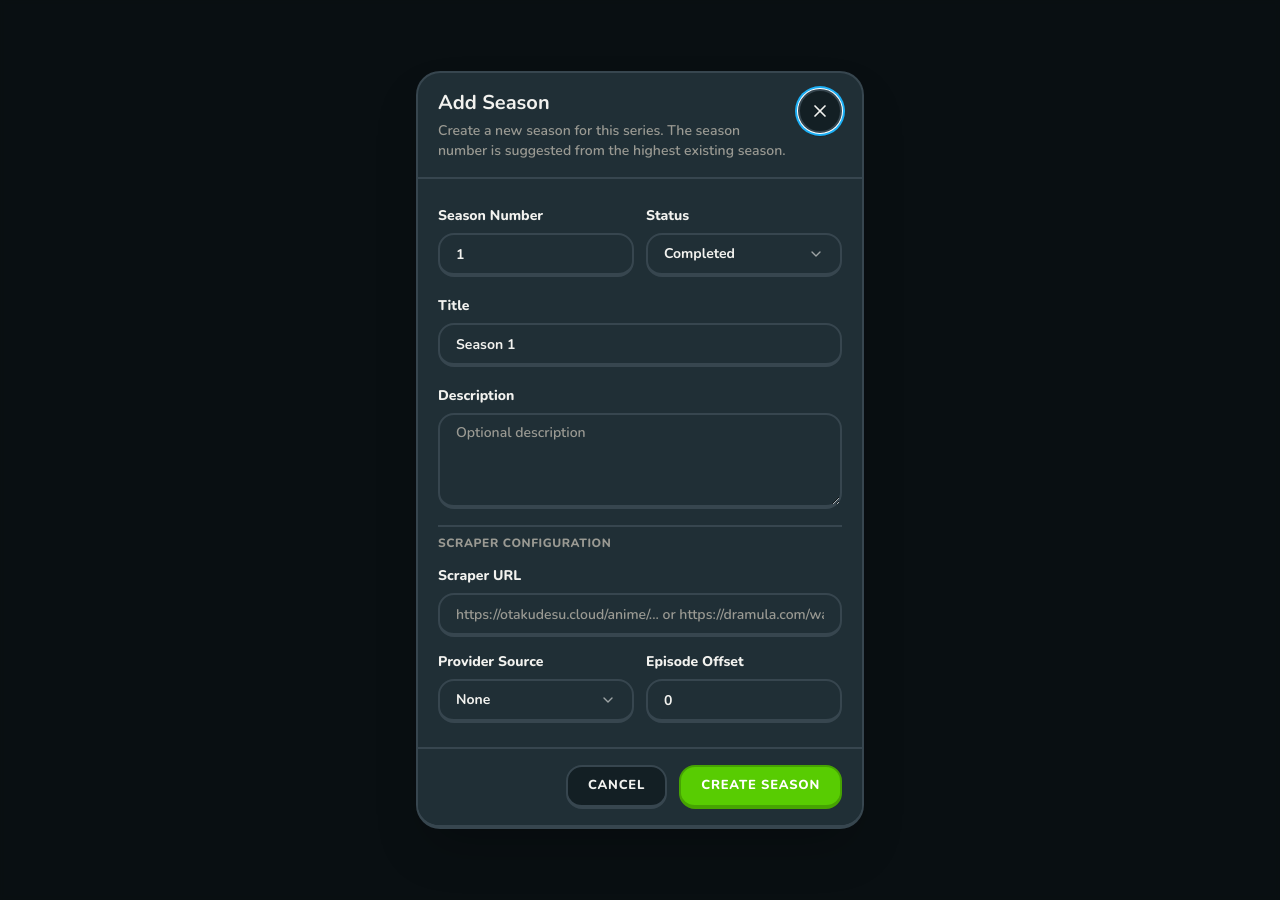
AddSeasonDialog Component › does not submit when title is empty
Clear the field labelled "Title" at (640, 345), box [438, 323, 842, 367]
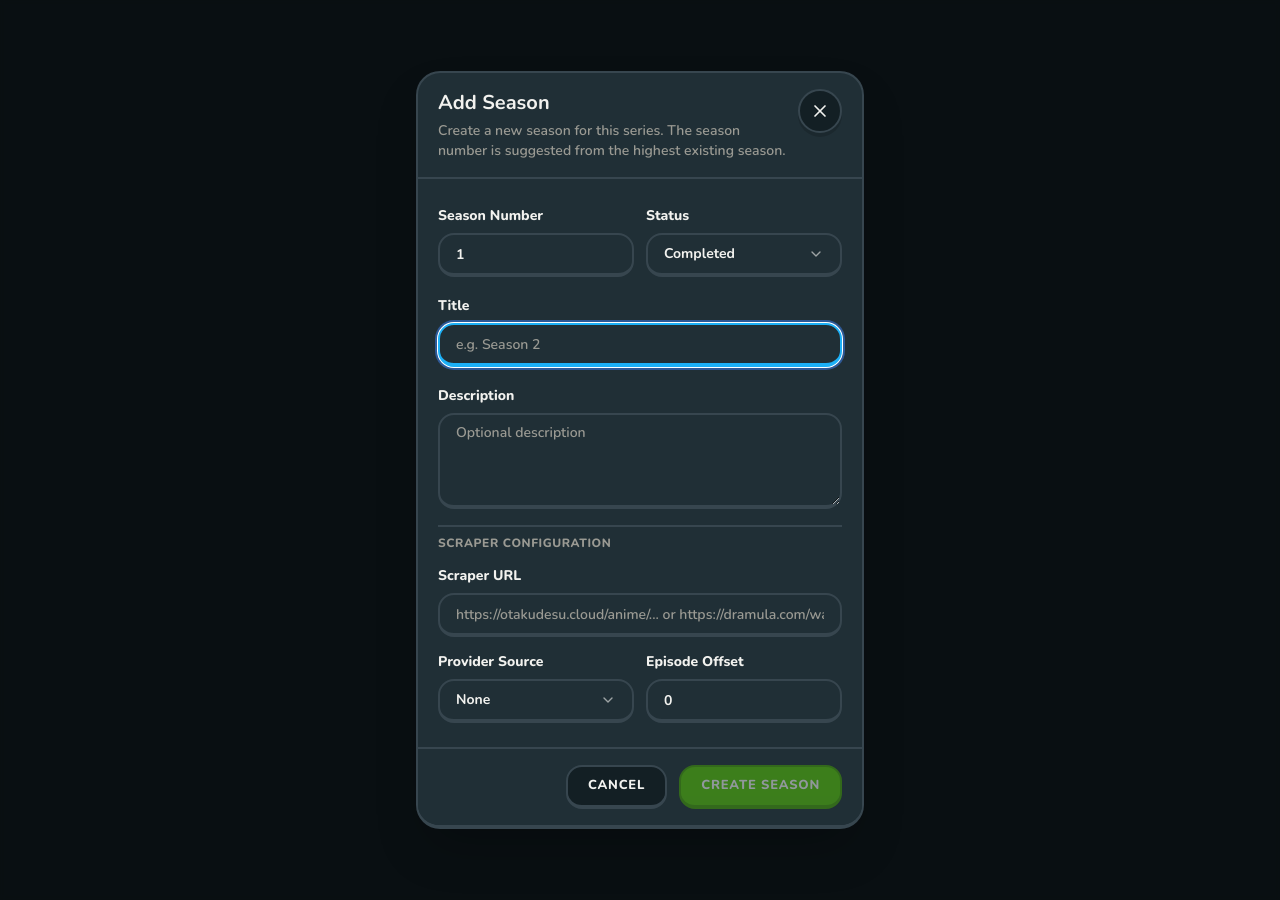
Now the button "Create Season" is disabled, box [679, 765, 842, 809]
